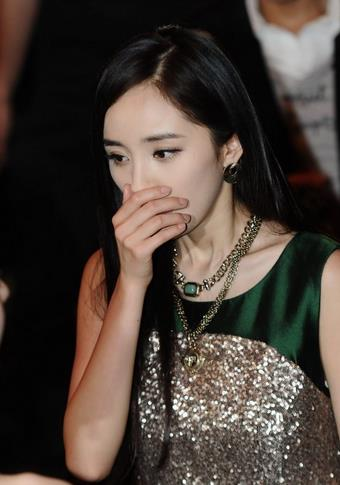face_mask: (106, 87, 210, 235)
